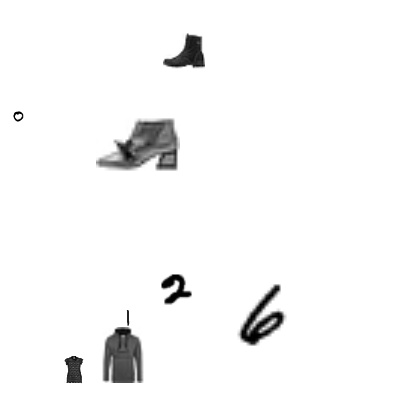0: (11, 109, 25, 123)
1: (117, 306, 139, 328)
2: (154, 267, 196, 309)
6: (217, 276, 301, 360)
Ankle_boot: (96, 104, 180, 188), (163, 29, 205, 71)
Pullover: (95, 327, 151, 383)
Shirt: (60, 356, 88, 384)
